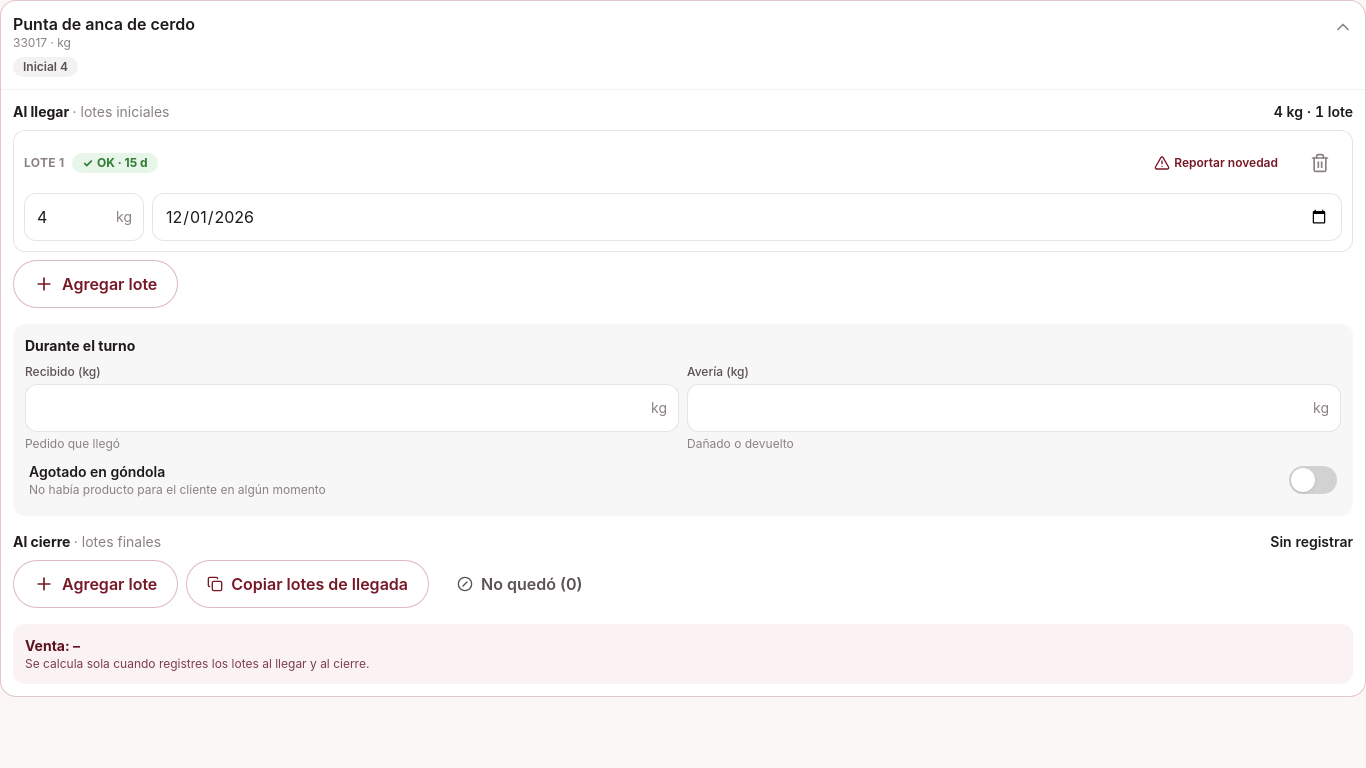
Test: Editor de lotes › "No quedó (0)" deja el cierre en cero (distinto de sin registrar)
Click the button "No quedó (0)" at (520,584), box x1=437 y1=560 x2=602 y2=608
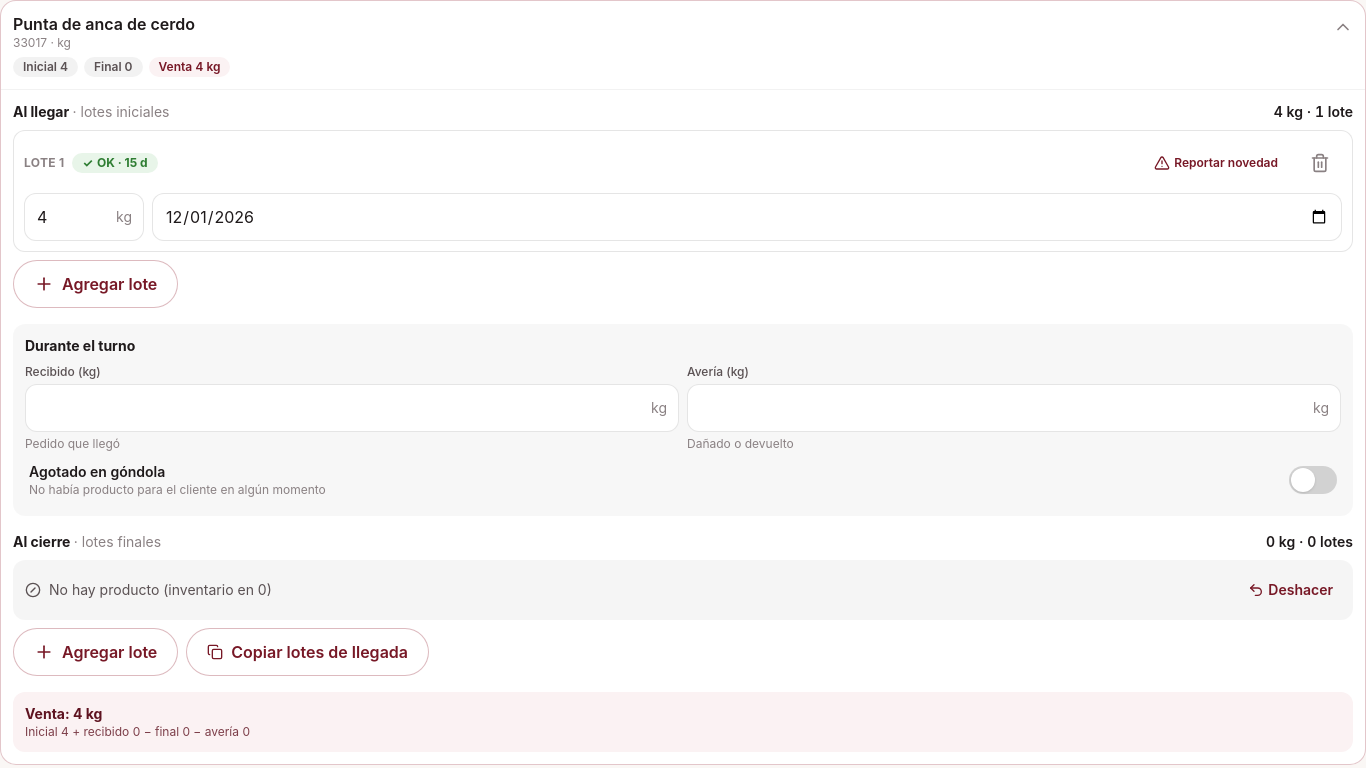
expect the text with test id "venta-en-vivo" reads "Venta: 4 kg": met, box x1=25 y1=705 x2=102 y2=722
